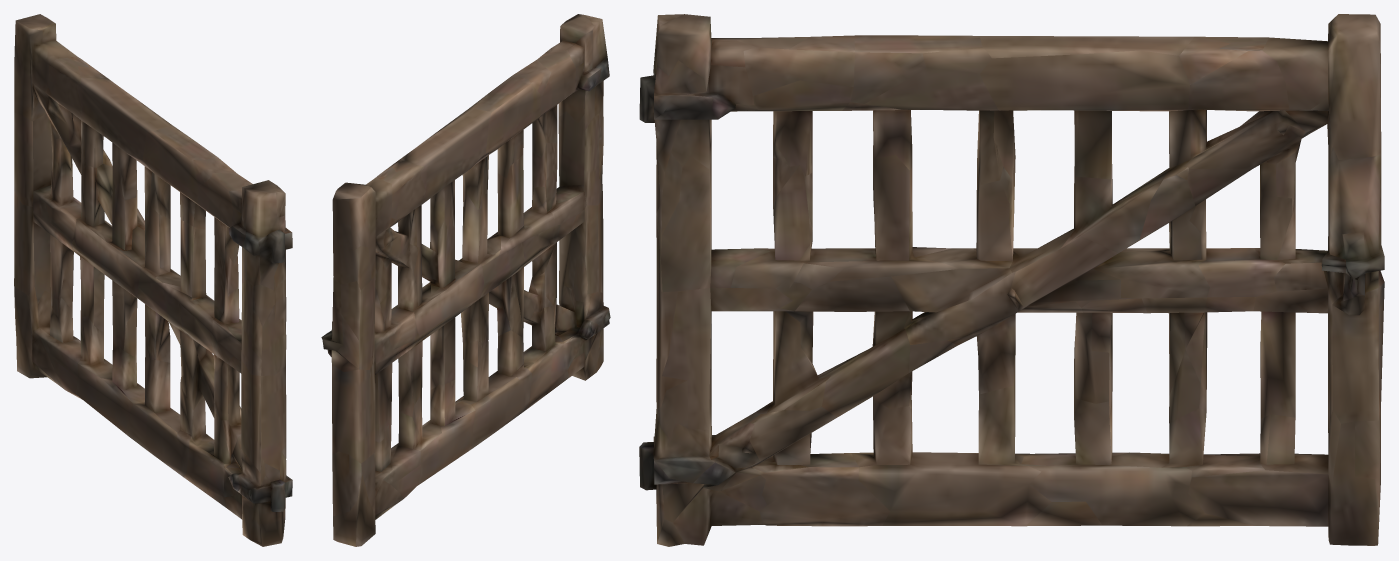
File: timber-gate-tripo.glb
3 renders of one model, left to right at view 1: azimuth 30°, elevation 25°; view 2: azimuth 150°, elevation 25°; view 3: azimuth 270°, elevation 25°, orthographic. The views are drawn at different scales.
Parts seen in each view (by area): view 1: tripo_node_ae5b8f89-2ec7-41a7-98e5-53667d0764ba; view 2: tripo_node_ae5b8f89-2ec7-41a7-98e5-53667d0764ba; view 3: tripo_node_ae5b8f89-2ec7-41a7-98e5-53667d0764ba.
Part boxes in pixels (box(x1,y1,x2,y2)): tripo_node_ae5b8f89-2ec7-41a7-98e5-53667d0764ba: box(14, 14, 292, 546); tripo_node_ae5b8f89-2ec7-41a7-98e5-53667d0764ba: box(321, 14, 610, 546); tripo_node_ae5b8f89-2ec7-41a7-98e5-53667d0764ba: box(639, 14, 1384, 546).
Size of the model in its own units: 0.1167 by 0.7642 by 0.9983.
1 material, 1 textured.
